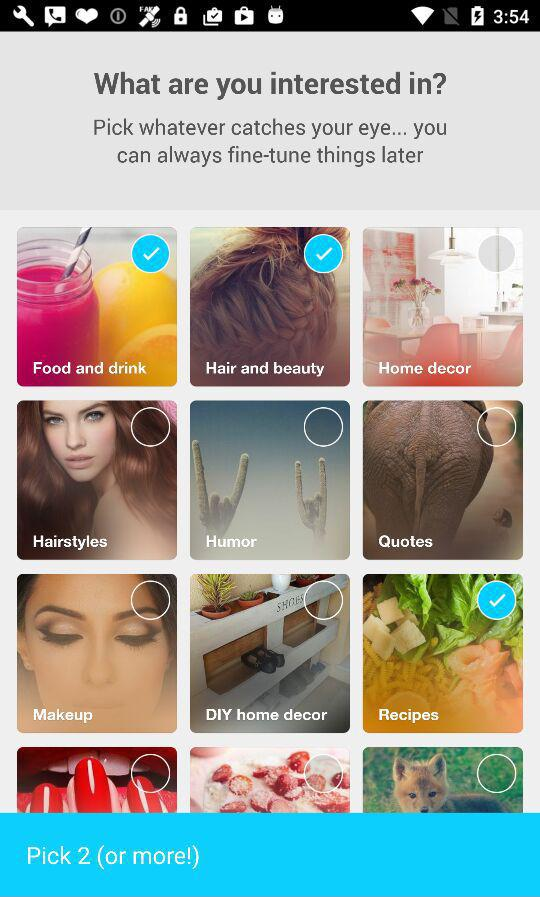CheckedTextView: (476, 579, 519, 621), (475, 753, 517, 794), (303, 233, 344, 275), (303, 753, 344, 794), (304, 581, 344, 622), (131, 408, 171, 448), (131, 234, 171, 274), (132, 581, 171, 621), (304, 407, 343, 447), (132, 754, 170, 793), (478, 409, 516, 447), (478, 235, 516, 273)
Image: (17, 574, 178, 734), (363, 400, 523, 561), (17, 400, 177, 561), (190, 227, 351, 387), (363, 574, 523, 734), (363, 228, 523, 388), (190, 574, 351, 733), (190, 400, 349, 561), (18, 228, 178, 387), (363, 747, 523, 813), (17, 747, 177, 813), (190, 747, 349, 813)
Text: (94, 118, 448, 169), (93, 71, 447, 102), (28, 845, 200, 871), (206, 362, 325, 378), (34, 362, 148, 376), (206, 709, 328, 722), (379, 362, 472, 376), (33, 534, 108, 551), (35, 708, 94, 725), (379, 708, 439, 724), (378, 536, 433, 549), (206, 535, 258, 548)
UpperTaskBar: (1, 1, 540, 33)
